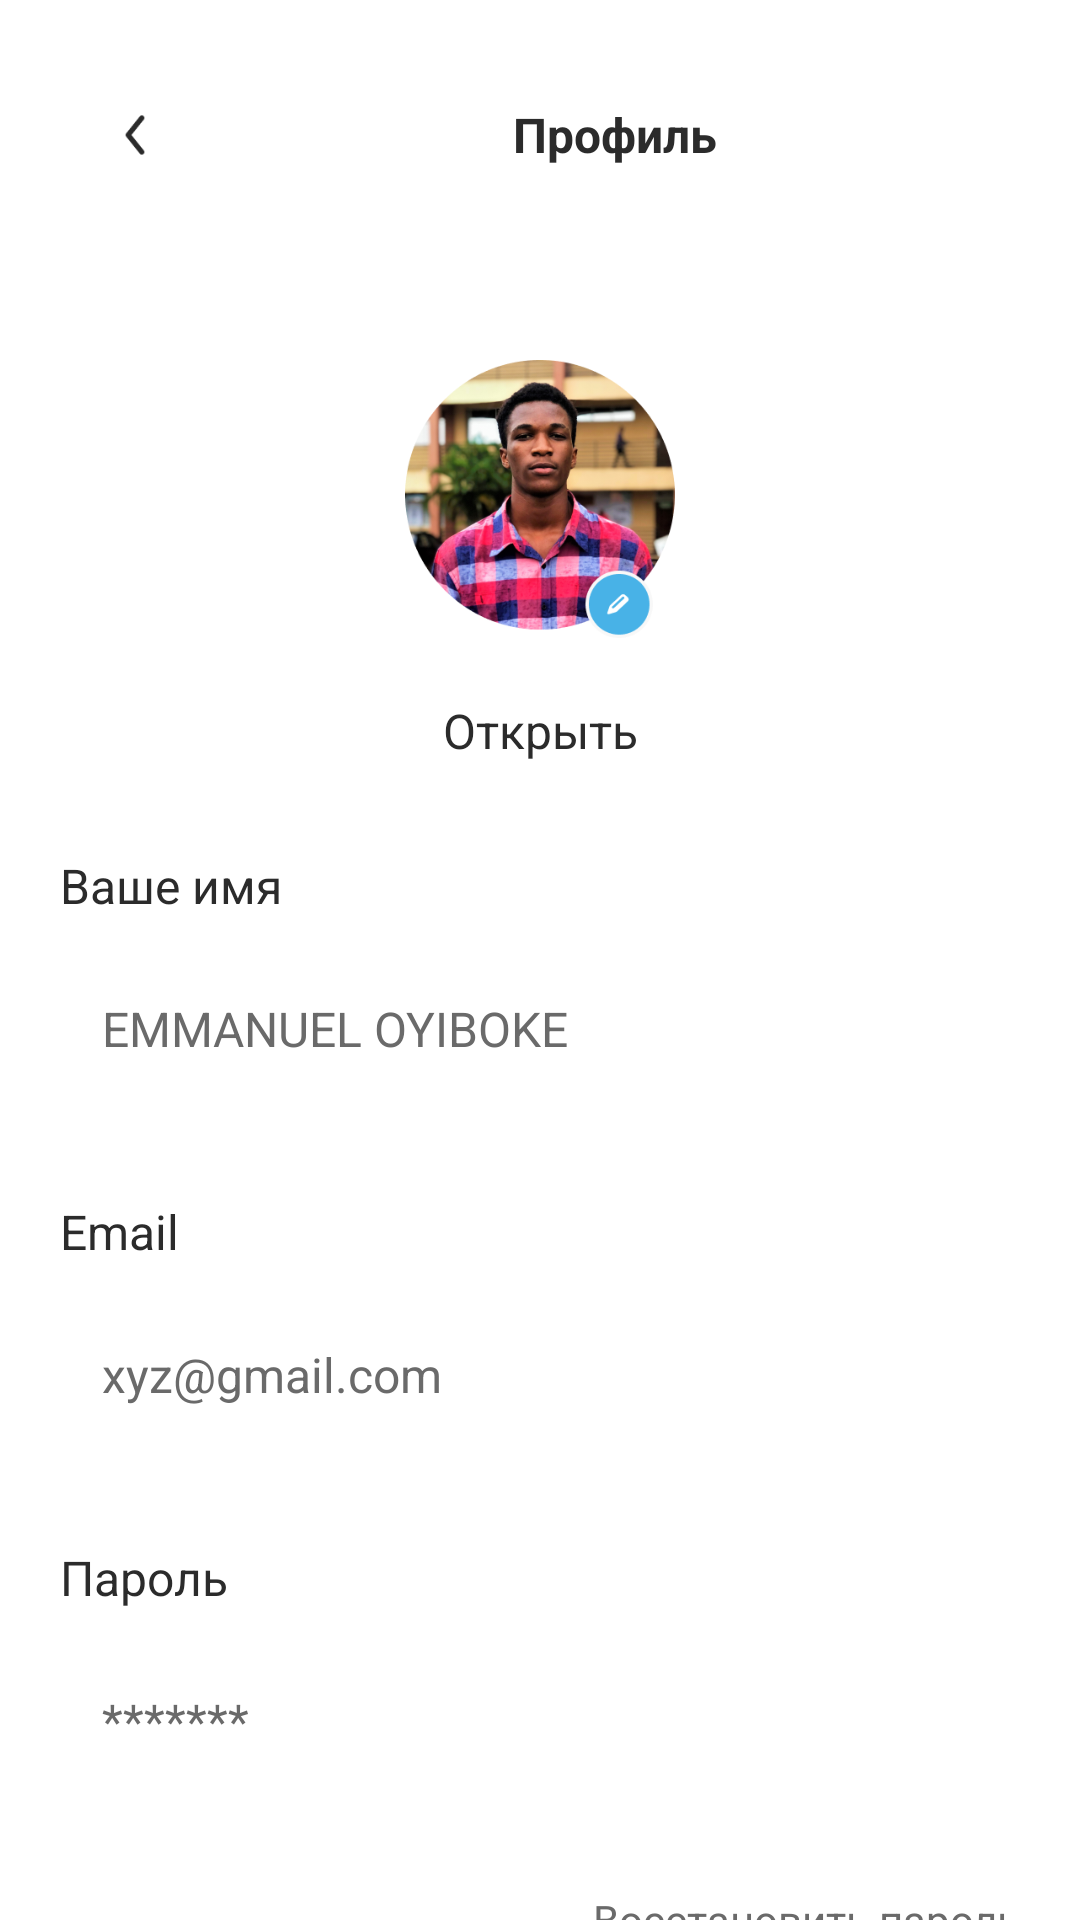

Locate icon controls on the screen. Image size 1080w x 1920h, boxes as (x1, y1, x2, y2).
back: (125, 115, 145, 155)
user: (405, 360, 675, 635)
